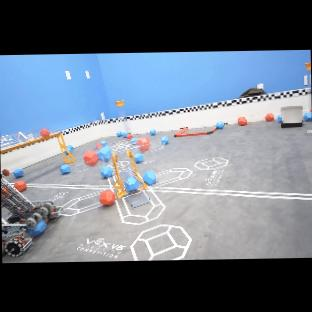Robot: (0, 169, 63, 257)
V5_BLUE: (100, 166, 139, 193), (97, 142, 116, 162), (28, 220, 45, 236), (140, 170, 156, 185), (60, 164, 69, 174), (303, 112, 311, 121), (13, 169, 23, 176), (116, 131, 127, 137), (160, 136, 168, 144), (216, 121, 224, 129), (134, 154, 142, 161), (277, 114, 282, 122), (149, 129, 155, 135)
V5_RED: (83, 150, 98, 166), (100, 190, 114, 205), (137, 136, 150, 151), (14, 180, 26, 191), (237, 116, 247, 125), (265, 113, 274, 121), (215, 121, 224, 129), (40, 129, 49, 137), (96, 143, 103, 148), (126, 134, 132, 139), (309, 109, 311, 112)
blueingoal: (97, 146, 111, 162)
redingoal: (83, 150, 99, 166), (137, 137, 151, 152), (39, 128, 49, 138)
